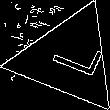L_NW: (37, 35, 100, 83)
